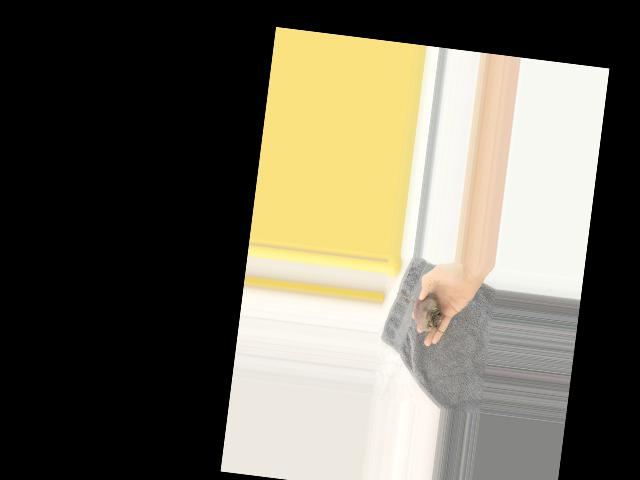beet: (392, 288, 446, 332)
